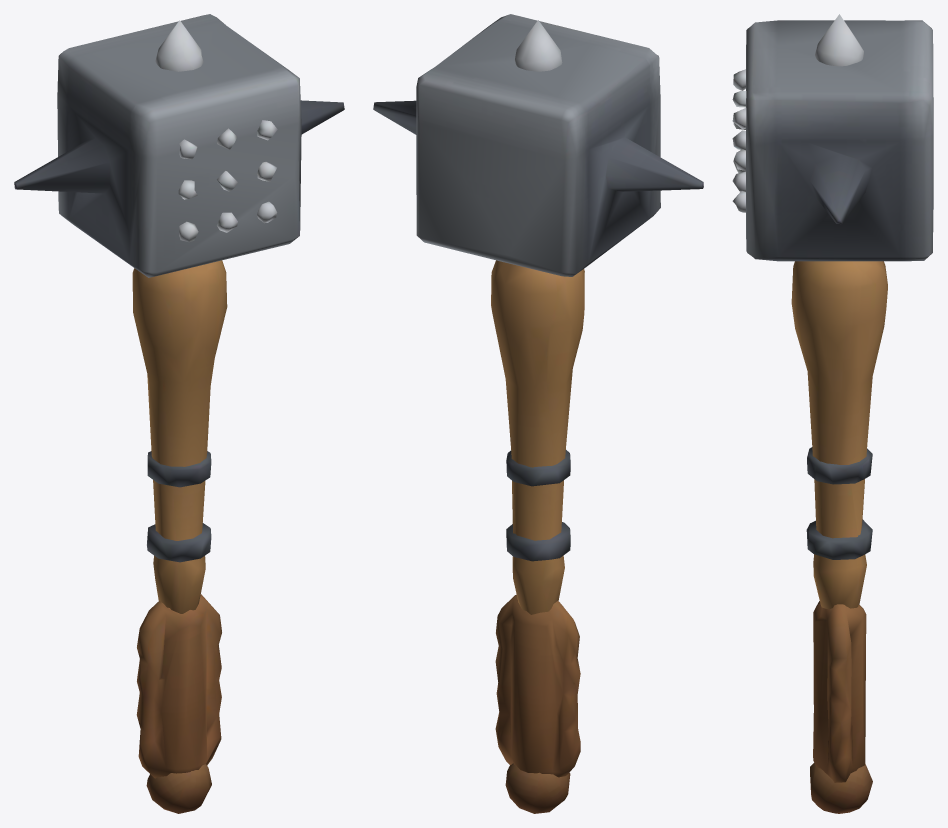
The model's file is warhammer.glb.
The picture shows the model from 3 angles, left to right: view 1: azimuth 30°, elevation 25°; view 2: azimuth 150°, elevation 25°; view 3: azimuth 270°, elevation 25°; orthographic projection.
Parts seen in each view (by area): view 1: head; view 2: head; view 3: head.
Boxes of the visible parts, x1,y1,x2,y2 form: head: (14,14,344,813); head: (373,14,703,813); head: (732,14,933,813).
Size of the model in its own units: 0.3671 by 0.8439 by 0.1929.
Materials: 1 (1 with a texture image).
